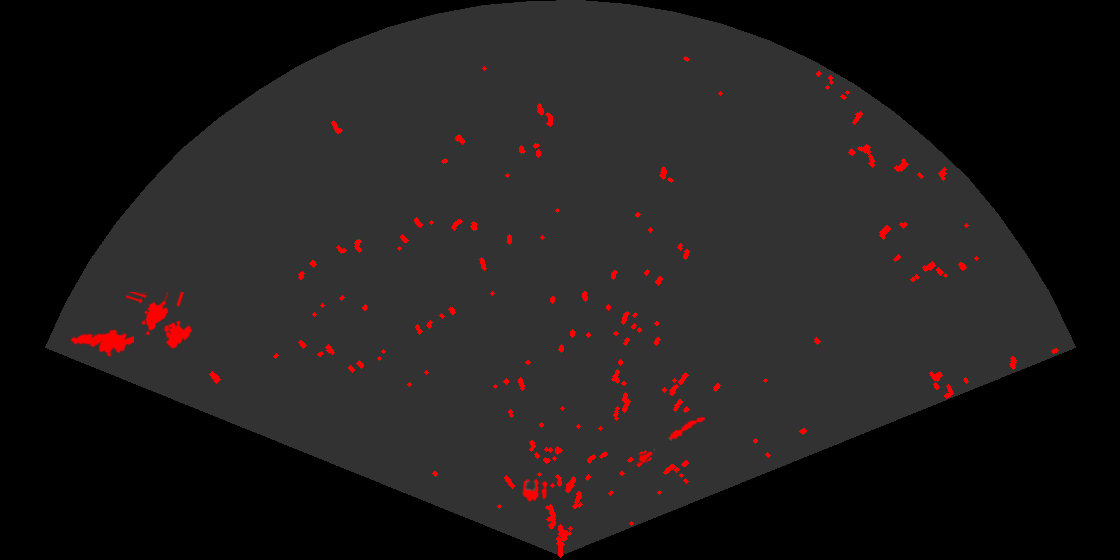ball: (521, 477, 549, 503)
cage: (126, 292, 194, 350)
chain: (629, 415, 707, 469)
frogman: (69, 328, 134, 359)
